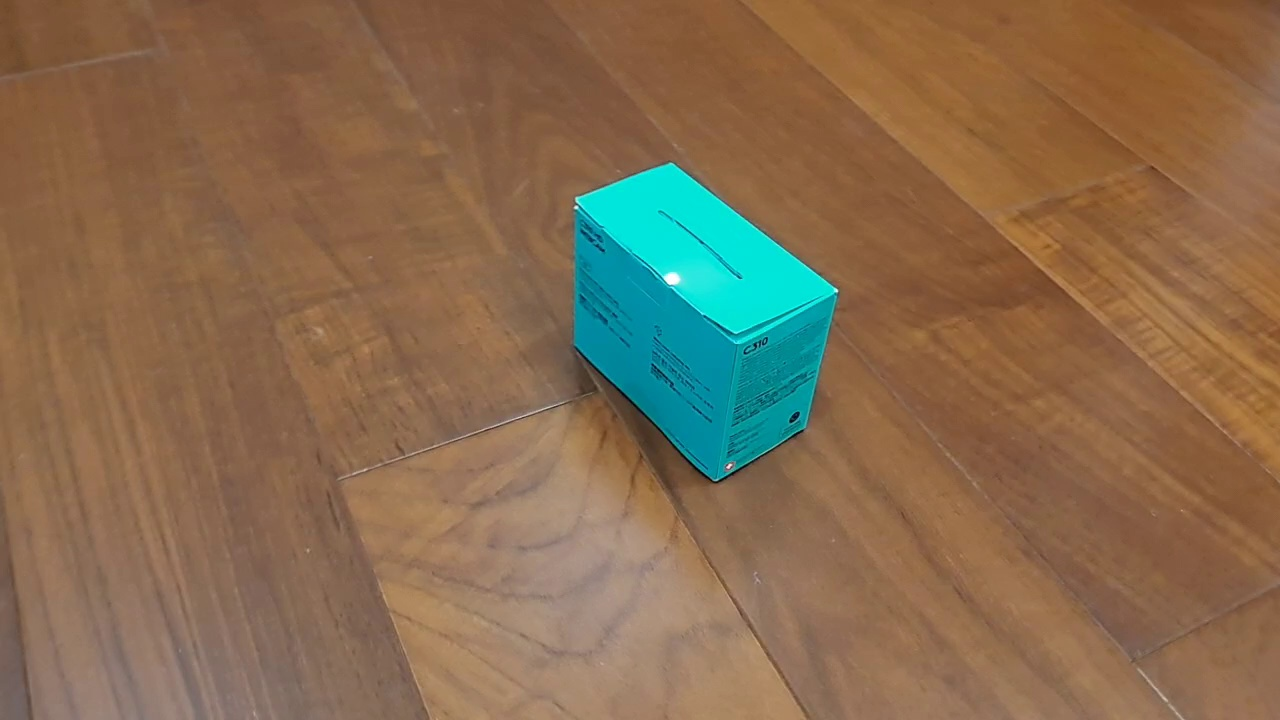webcam: (570, 159, 840, 485)
